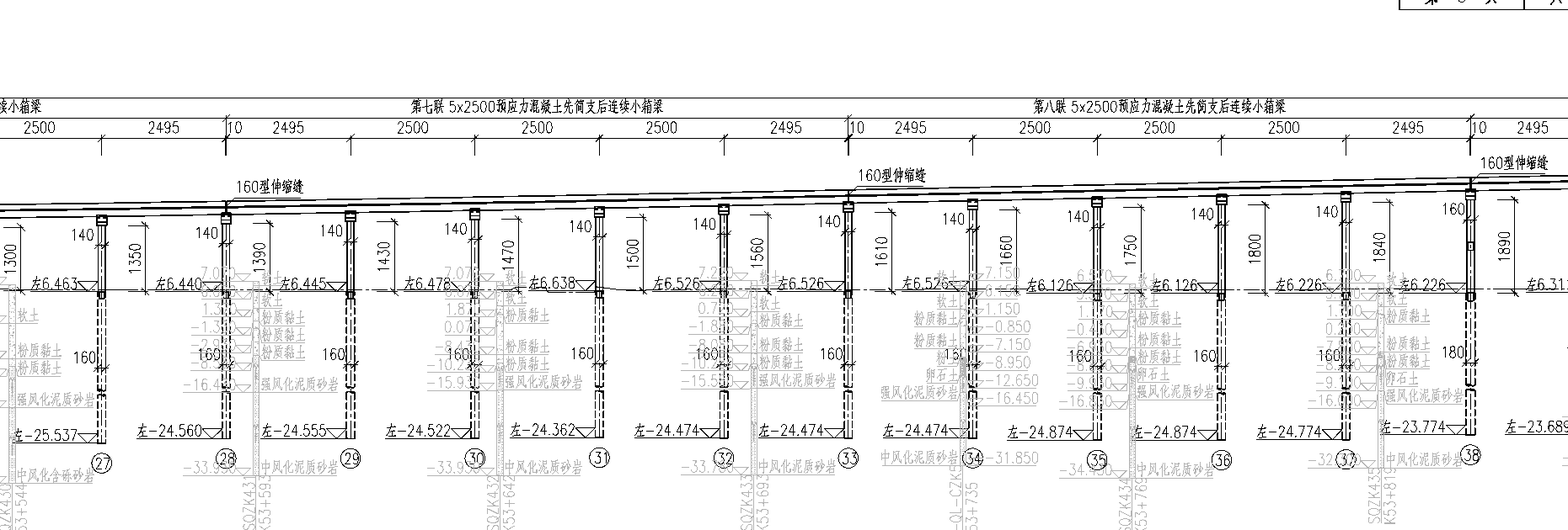C: (1014, 193, 1118, 475), (1265, 187, 1366, 475), (889, 194, 992, 475), (640, 198, 745, 472), (768, 196, 869, 474), (1394, 184, 1491, 471), (18, 208, 120, 480), (1148, 188, 1243, 478), (393, 204, 494, 474), (271, 205, 370, 474), (522, 200, 618, 474), (151, 208, 245, 474)
